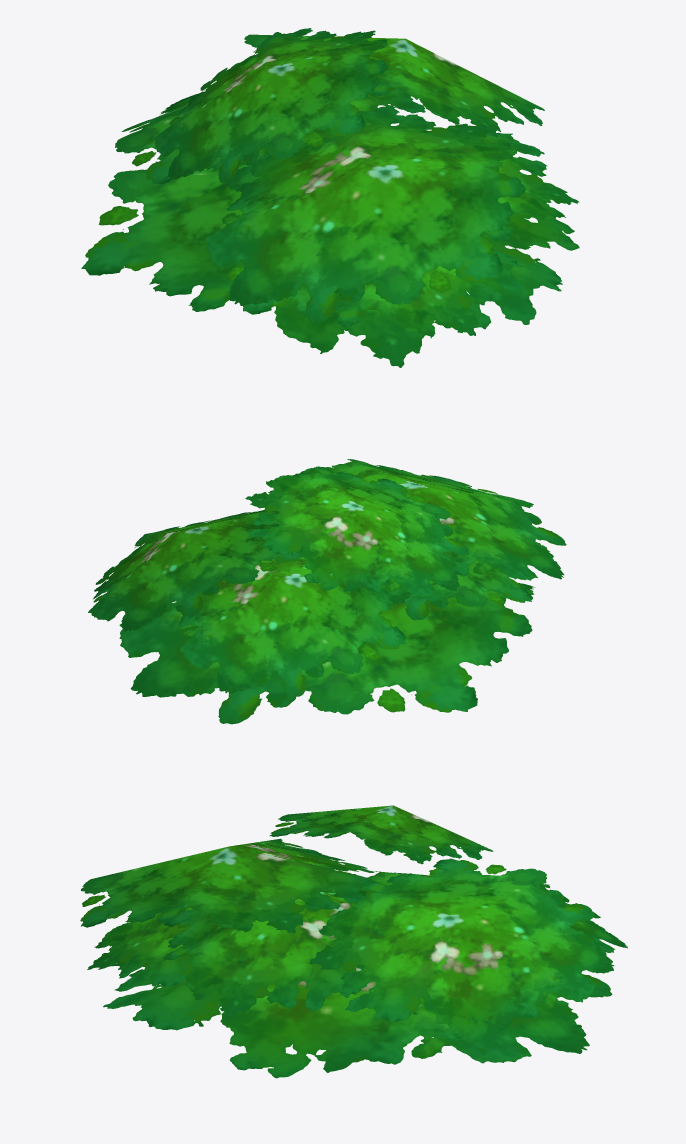
The model's file is diqiuchangjing_guanmu02.FBX.
3 views of the same model, one above another, from view 1: azimuth 30°, elevation 25°; view 2: azimuth 150°, elevation 25°; view 3: azimuth 270°, elevation 25° (orthographic). The views are drawn at different scales.
Parts seen in each view (by area): view 1: diqiuchangjing_guanmu02; view 2: diqiuchangjing_guanmu02; view 3: diqiuchangjing_guanmu02.
Boxes of the visible parts, x1,y1,x2,y2 form: diqiuchangjing_guanmu02: [81, 28, 579, 367]; diqiuchangjing_guanmu02: [88, 459, 566, 724]; diqiuchangjing_guanmu02: [80, 805, 627, 1078].
Size of the model in its own units: 629 by 210 by 666.
